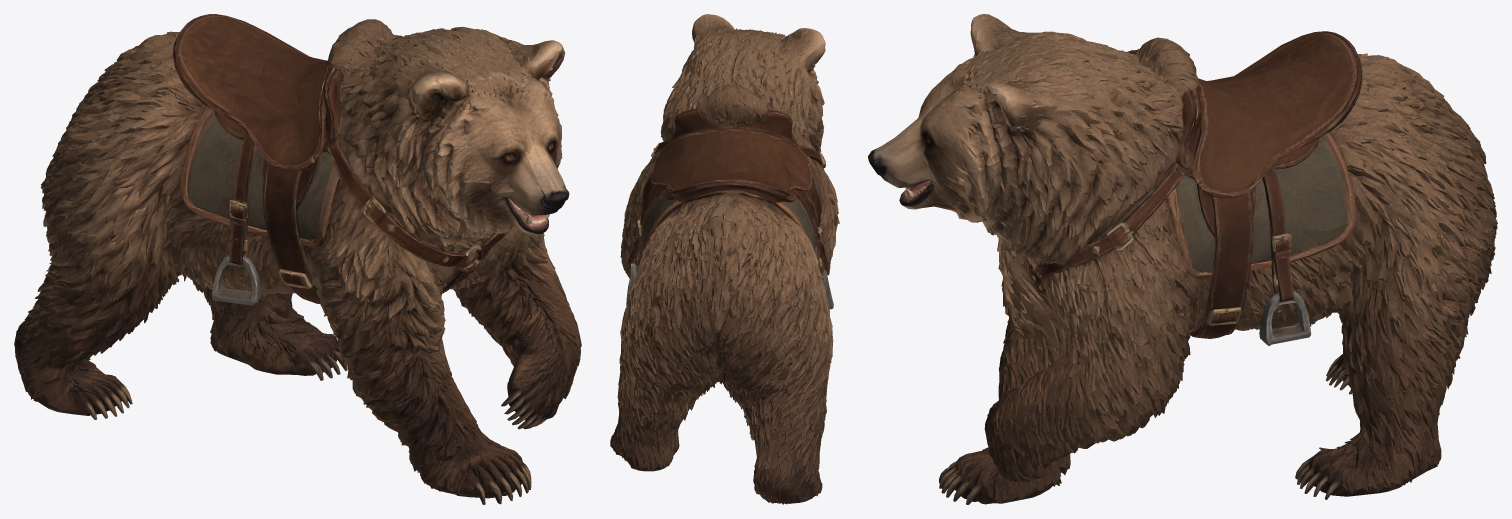
The model's file is grizzly.glb.
3 renders of one model, left to right at view 1: azimuth 30°, elevation 25°; view 2: azimuth 150°, elevation 25°; view 3: azimuth 270°, elevation 25°, orthographic. The views are drawn at different scales.
Size of the model in its own units: 1.41 by 1.48 by 1.9.
Materials: 1 (1 with a texture image).
